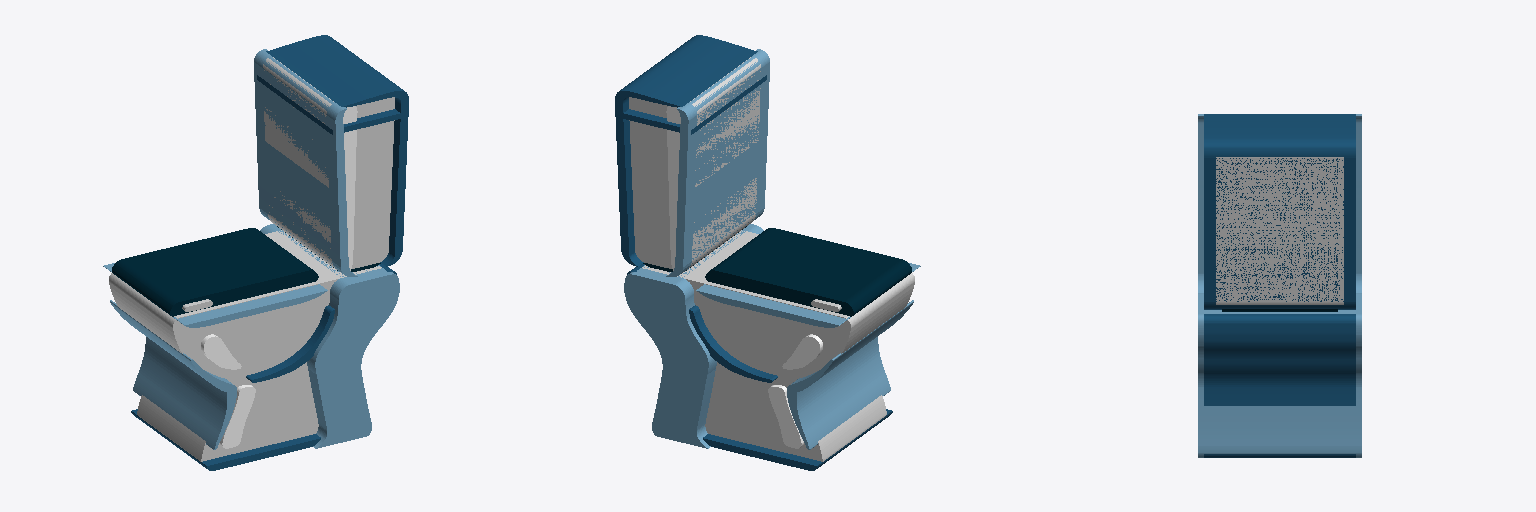
3 views of the same model, side by side, from view 1: azimuth 30°, elevation 25°; view 2: azimuth 150°, elevation 25°; view 3: azimuth 270°, elevation 25° (orthographic).
Visible parts, largest first — view 1: U+1F6BD_layer01_obj02, U+1F6BD_layer04_obj00, U+1F6BD_layer00_obj01, U+1F6BD_layer04_obj01, U+1F6BD_layer01_obj00, U+1F6BD_layer03_obj04, U+1F6BD_layer04_obj02, U+1F6BD_layer04_obj03, U+1F6BD_layer03_obj02, U+1F6BD_layer02_obj00, U+1F6BD_layer03_obj01, U+1F6BD_layer02_obj02 (+2 smaller); view 2: U+1F6BD_layer01_obj02, U+1F6BD_layer04_obj00, U+1F6BD_layer00_obj01, U+1F6BD_layer04_obj01, U+1F6BD_layer01_obj00, U+1F6BD_layer03_obj04, U+1F6BD_layer04_obj02, U+1F6BD_layer04_obj03, U+1F6BD_layer03_obj02, U+1F6BD_layer02_obj00, U+1F6BD_layer03_obj01, U+1F6BD_layer02_obj02 (+2 smaller); view 3: U+1F6BD_layer01_obj00, U+1F6BD_layer03_obj03, U+1F6BD_layer03_obj04, U+1F6BD_layer04_obj01, U+1F6BD_layer04_obj00, U+1F6BD_layer03_obj02.
Boxes of the visible parts, x1=… form: U+1F6BD_layer01_obj02: x1=109, y1=230, x2=381, y2=461; U+1F6BD_layer04_obj00: x1=254, y1=49, x2=357, y2=276; U+1F6BD_layer00_obj01: x1=112, y1=228, x2=318, y2=316; U+1F6BD_layer04_obj01: x1=260, y1=224, x2=399, y2=448; U+1F6BD_layer01_obj00: x1=263, y1=57, x2=394, y2=269; U+1F6BD_layer03_obj04: x1=266, y1=35, x2=408, y2=266; U+1F6BD_layer04_obj02: x1=110, y1=300, x2=236, y2=449; U+1F6BD_layer04_obj03: x1=103, y1=263, x2=327, y2=327; U+1F6BD_layer03_obj02: x1=131, y1=409, x2=320, y2=470; U+1F6BD_layer02_obj00: x1=343, y1=106, x2=357, y2=270; U+1F6BD_layer03_obj01: x1=246, y1=305, x2=334, y2=382; U+1F6BD_layer02_obj02: x1=220, y1=385, x2=255, y2=448; U+1F6BD_layer01_obj02: x1=642, y1=230, x2=914, y2=461; U+1F6BD_layer04_obj00: x1=666, y1=49, x2=769, y2=276; U+1F6BD_layer00_obj01: x1=705, y1=228, x2=911, y2=316; U+1F6BD_layer04_obj01: x1=624, y1=224, x2=763, y2=448; U+1F6BD_layer01_obj00: x1=629, y1=57, x2=760, y2=269; U+1F6BD_layer03_obj04: x1=615, y1=35, x2=757, y2=266; U+1F6BD_layer04_obj02: x1=787, y1=300, x2=913, y2=449; U+1F6BD_layer04_obj03: x1=696, y1=263, x2=920, y2=327; U+1F6BD_layer03_obj02: x1=703, y1=409, x2=892, y2=470; U+1F6BD_layer02_obj00: x1=666, y1=106, x2=680, y2=270; U+1F6BD_layer03_obj01: x1=689, y1=305, x2=777, y2=382; U+1F6BD_layer02_obj02: x1=768, y1=385, x2=803, y2=448; U+1F6BD_layer01_obj00: x1=1216, y1=157, x2=1343, y2=304; U+1F6BD_layer03_obj03: x1=1204, y1=314, x2=1355, y2=405; U+1F6BD_layer03_obj04: x1=1204, y1=114, x2=1355, y2=309; U+1F6BD_layer04_obj01: x1=1198, y1=293, x2=1361, y2=457; U+1F6BD_layer04_obj00: x1=1198, y1=114, x2=1361, y2=290; U+1F6BD_layer03_obj02: x1=1204, y1=454, x2=1355, y2=457.
Size of the model in its own units: 0.2282 by 0.3173 by 0.14.